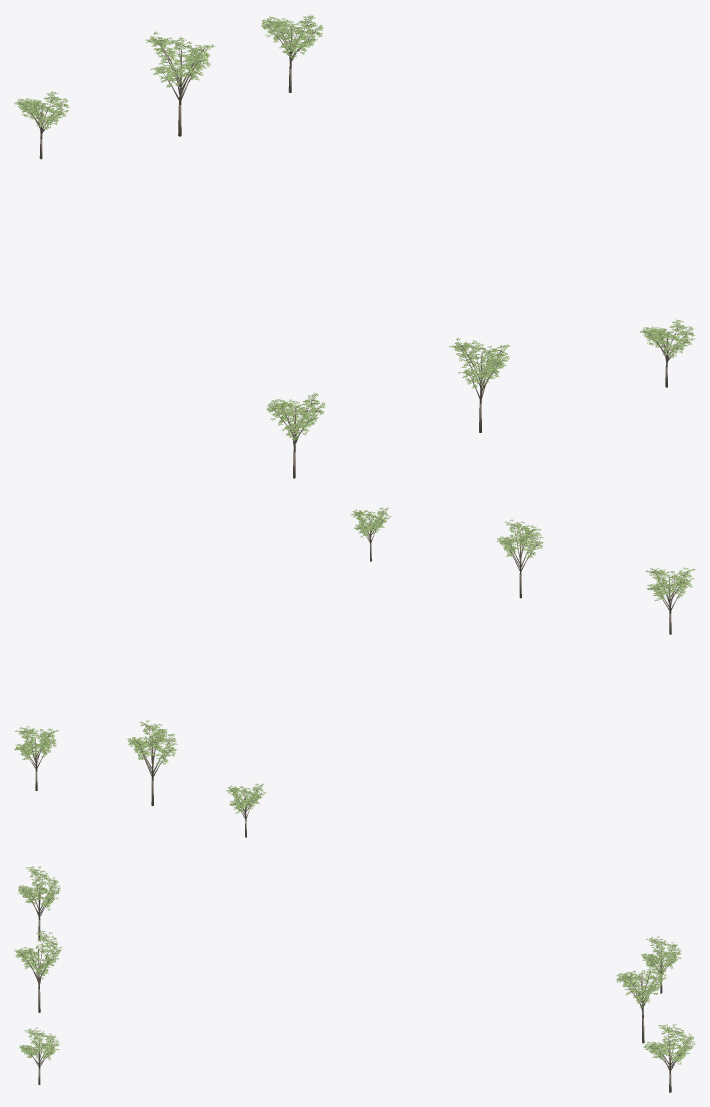
File: 20261104-public-planting-4.glb
The picture shows the model from 3 angles, top to bottom: view 1: azimuth 30°, elevation 25°; view 2: azimuth 150°, elevation 25°; view 3: azimuth 270°, elevation 25°; orthographic projection. The views are drawn at different scales.
Parts seen in each view (by area): view 1: Public realm tree 22 - Tree trunk, Public realm tree 22 - Tree foliage.003; view 2: Public realm tree 22 - Tree trunk; view 3: Public realm tree 22 - Tree foliage, Public realm tree 22 - Tree foliage.002, Public realm tree 22 - Tree foliage.003, Public realm tree 22 - Tree foliage.001, Public realm tree 22 - Tree trunk, Public realm tree 23 - Tree foliage.003, Public realm tree 44 - Tree trunk, Public realm tree 23 - Tree foliage.002, Public realm tree 23 - Tree foliage, Public realm tree 23 - Tree foliage.001, Public realm tree 23 - Tree trunk, Public realm tree 43 - Tree foliage.002 (+7 smaller).
Boxes of the visible parts, left/top/right/bottom form: Public realm tree 22 - Tree trunk: left=149, top=33, right=209, bottom=136; Public realm tree 22 - Tree foliage.003: left=149, top=33, right=212, bottom=85; Public realm tree 22 - Tree trunk: left=130, top=723, right=172, bottom=805; Public realm tree 22 - Tree foliage: left=617, top=955, right=666, bottom=1007; Public realm tree 22 - Tree foliage.002: left=617, top=954, right=666, bottom=1006; Public realm tree 22 - Tree foliage.003: left=616, top=955, right=667, bottom=1006; Public realm tree 22 - Tree foliage.001: left=616, top=955, right=665, bottom=1007; Public realm tree 22 - Tree trunk: left=620, top=955, right=662, bottom=1043; Public realm tree 23 - Tree foliage.003: left=643, top=1025, right=695, bottom=1063; Public realm tree 44 - Tree trunk: left=19, top=933, right=59, bottom=1012; Public realm tree 23 - Tree foliage.002: left=645, top=1024, right=695, bottom=1063; Public realm tree 23 - Tree foliage: left=644, top=1025, right=694, bottom=1064; Public realm tree 23 - Tree foliage.001: left=645, top=1024, right=693, bottom=1064; Public realm tree 23 - Tree trunk: left=648, top=1028, right=690, bottom=1092; Public realm tree 43 - Tree foliage.002: left=18, top=866, right=60, bottom=908.
Bounding box in the file's own units: 45.53 × 9.7 × 75.67.
